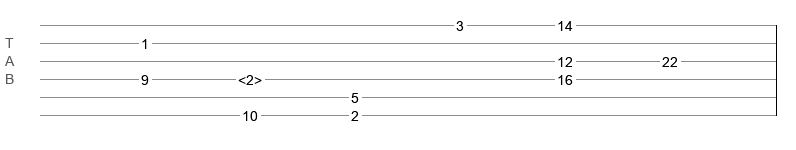1: (141, 36, 149, 46)
10: (242, 108, 258, 118)
12: (557, 54, 573, 64)
14: (557, 18, 573, 28)
16: (557, 72, 573, 82)
2: (351, 108, 359, 118)
22: (662, 54, 678, 64)
3: (456, 18, 464, 28)
5: (351, 90, 359, 100)
9: (141, 72, 149, 82)
harmonic: (238, 72, 262, 82)
